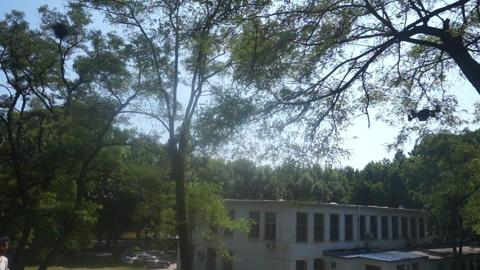UAV: (408, 106, 441, 121)
